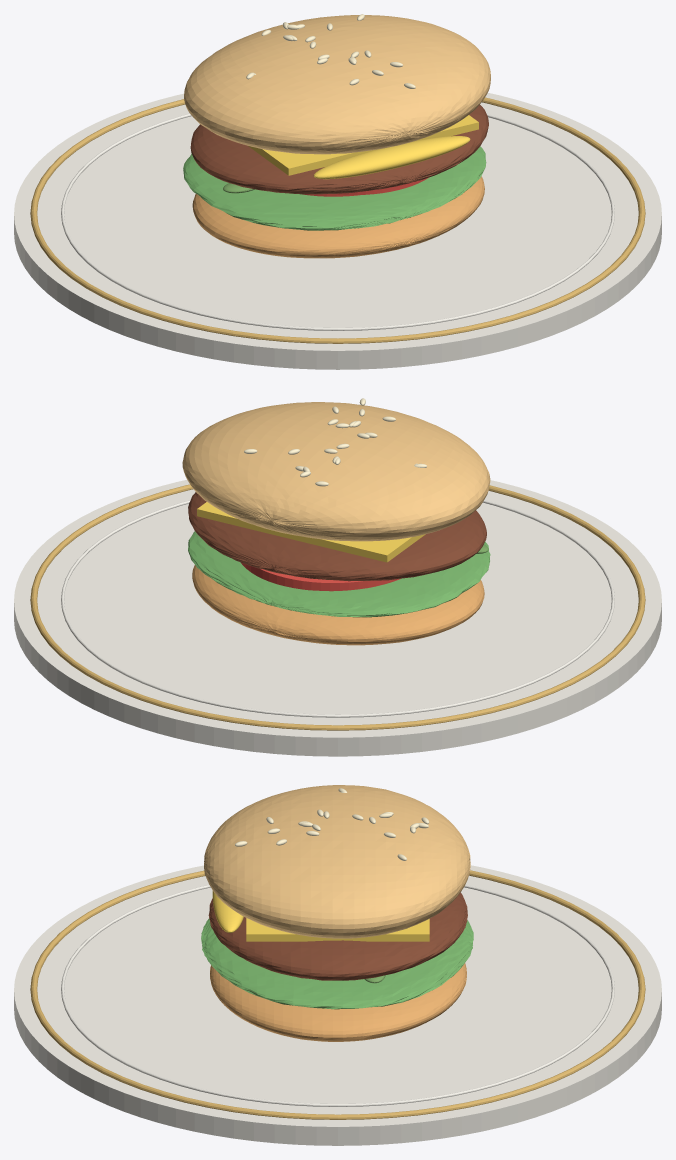
The model's file is silver_sapoon_burger.glb.
The picture shows the model from 3 angles, top to bottom: view 1: azimuth 30°, elevation 25°; view 2: azimuth 150°, elevation 25°; view 3: azimuth 270°, elevation 25°; orthographic projection.
Parts seen in each view (by area): view 1: Porcelain plate, Top brioche bun, Crisp lettuce, Bottom brioche bun, Double smash beef patty, Fine gold plate rim, Inner plate groove, Cheese drape front, Melted cheddar cheese; view 2: Porcelain plate, Top brioche bun, Double smash beef patty, Crisp lettuce, Bottom brioche bun, Fine gold plate rim, Inner plate groove, Melted cheddar cheese, Tomato slice one; view 3: Porcelain plate, Top brioche bun, Double smash beef patty, Crisp lettuce, Bottom brioche bun, Fine gold plate rim, Inner plate groove, Melted cheddar cheese, Cheese drape front.
Part boxes in pixels (left/top/right/bottom): Porcelain plate: left=14, top=92, right=661, bottom=369; Top brioche bun: left=184, top=15, right=490, bottom=154; Crisp lettuce: left=183, top=146, right=486, bottom=230; Bottom brioche bun: left=192, top=176, right=484, bottom=258; Double smash beef patty: left=190, top=104, right=488, bottom=194; Fine gold plate rim: left=30, top=97, right=645, bottom=343; Inner plate groove: left=61, top=113, right=614, bottom=330; Cheese drape front: left=313, top=136, right=470, bottom=179; Melted cheddar cheese: left=248, top=115, right=478, bottom=175; Porcelain plate: left=14, top=479, right=661, bottom=756; Top brioche bun: left=182, top=402, right=490, bottom=541; Double smash beef patty: left=188, top=492, right=486, bottom=581; Crisp lettuce: left=188, top=531, right=490, bottom=617; Bottom brioche bun: left=192, top=565, right=484, bottom=645; Fine gold plate rim: left=30, top=484, right=645, bottom=730; Inner plate groove: left=61, top=500, right=614, bottom=717; Melted cheddar cheese: left=197, top=502, right=425, bottom=562; Tomato slice one: left=241, top=562, right=400, bottom=591; Porcelain plate: left=14, top=865, right=661, bottom=1145; Top brioche bun: left=204, top=785, right=470, bottom=938; Double smash beef patty: left=208, top=892, right=467, bottom=980; Crisp lettuce: left=201, top=918, right=473, bottom=1009; Bottom brioche bun: left=210, top=963, right=466, bottom=1041; Fine gold plate rim: left=30, top=870, right=645, bottom=1119; Inner plate groove: left=61, top=884, right=614, bottom=1106; Melted cheddar cheese: left=246, top=918, right=429, bottom=941; Cheese drape front: left=212, top=890, right=243, bottom=932.
Size of the model in its own units: 18 by 5.72 by 18.
